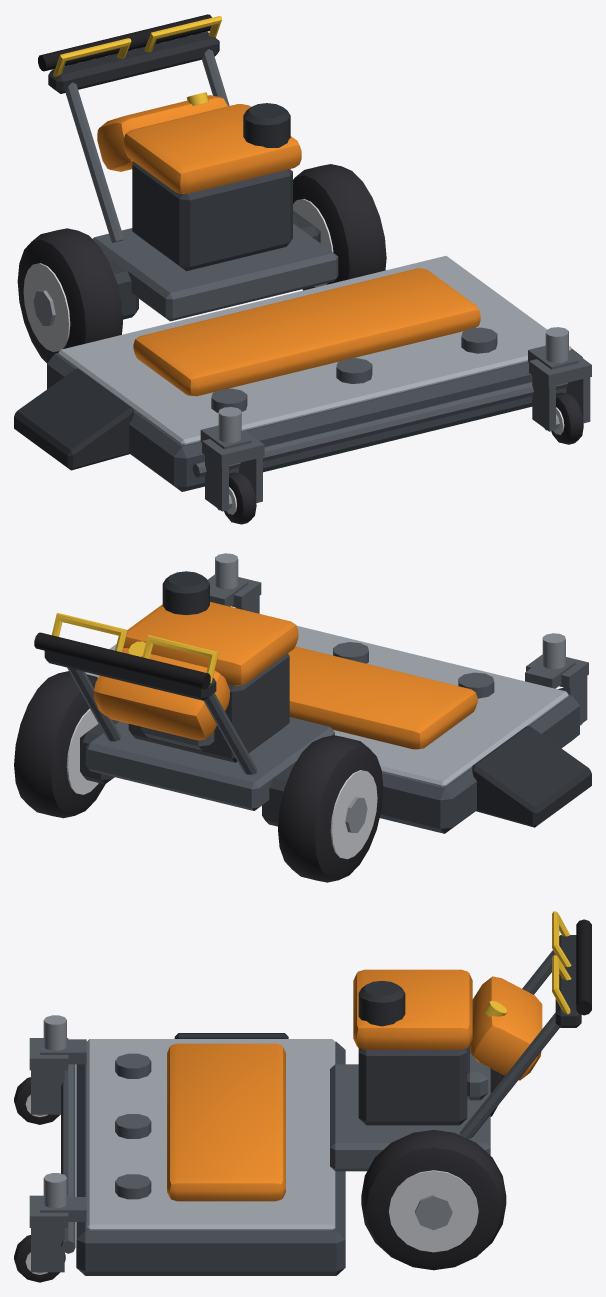
The model's file is mower_walkbehind.glb.
3 renders of one model, top to bottom at view 1: azimuth 30°, elevation 25°; view 2: azimuth 150°, elevation 25°; view 3: azimuth 270°, elevation 25°, orthographic.
Visible parts, largest first — view 1: Deck, Chassis, Wheel_RR, Wheel_RL, Wheel_CL, Wheel_CR; view 2: Chassis, Deck, Wheel_RR, Wheel_RL; view 3: Deck, Chassis, Wheel_RL, Wheel_CL, Wheel_CR.
Part boxes in pixels (x1,y1,x2,y2): Deck: (47,256,591,511); Chassis: (14,14,338,470); Wheel_RR: (17,228,122,363); Wheel_RL: (293,164,386,290); Wheel_CL: (551,392,583,444); Wheel_CR: (224,472,256,524); Chassis: (34,571,591,827); Deck: (85,553,588,833); Wheel_RR: (278,735,383,882); Wheel_RL: (14,671,105,818); Deck: (29,1015,345,1275); Chassis: (174,911,591,1171); Wheel_RL: (361,1130,506,1270); Wheel_CL: (14,1235,65,1282); Wheel_CR: (14,1077,59,1124).
Size of the model in its own units: 2.06 by 1.07 by 2.23.
